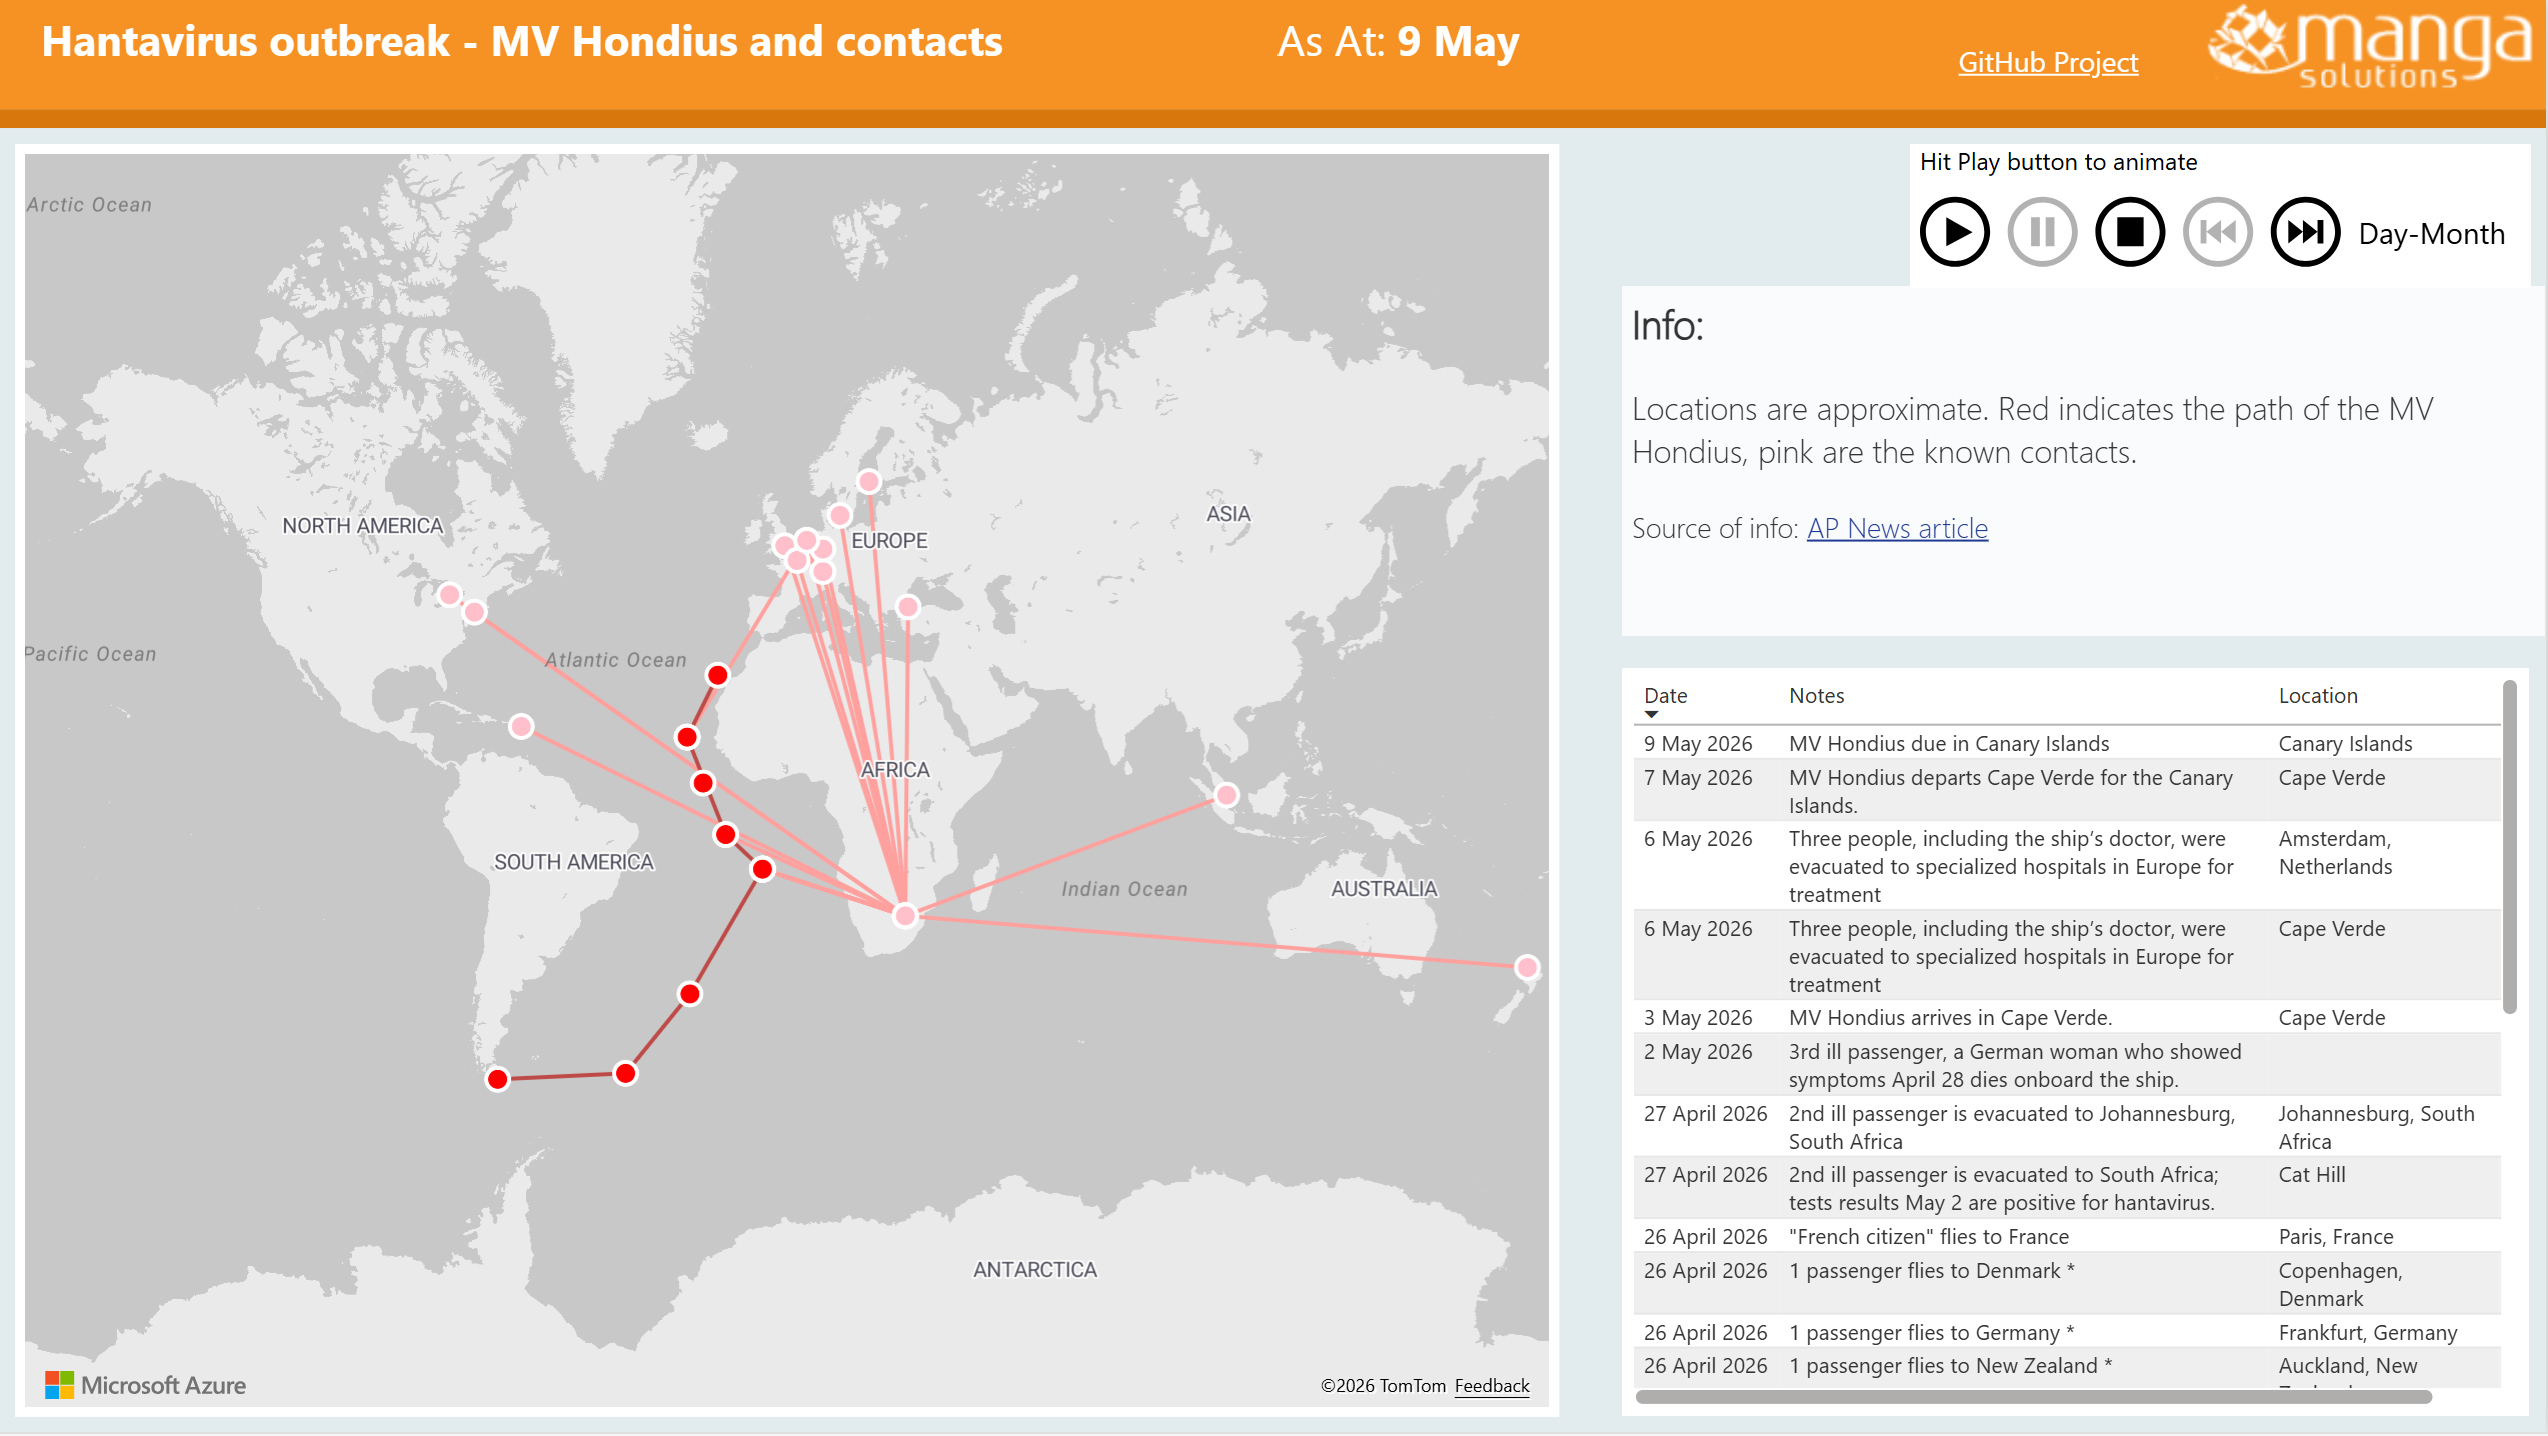

The dashboard page shown, as its layout file describes it:
{"tool":"powerbi","page":{"name":"Timeline Map - Animated","canvas":[1280,720],"ordinal":0},"visuals":[{"type":"textbox","box":[16,0,544,48],"z":0},{"type":"azureMap","fields":{"PathID":["Timeline.Paths"],"PointOrder":["Timeline.Index"],"X":["Timeline.Longitude"],"Y":["Timeline.Latitude"]},"box":[8,72,776,640],"z":2000},{"type":"PBI_CV_16948668_E17D_454B_8664_2F2C470EA8C1","title":"Hit Play button to animate","fields":{"category":["Dates.Day-Month"]},"box":[960,72,312,72],"z":4000},{"type":"cardVisual","fields":{"Data":["Timeline.@ Latest Date"]},"box":[560,0,224,64],"z":5000},{"type":"textbox","box":[816,144,464,176],"z":5001},{"type":"textbox","box":[960,16,120,32],"z":5003},{"type":"tableEx","fields":{"Values":["Timeline.Date","Timeline.Notes","Timeline.Location","Timeline.Index"]},"box":[816,336,456,376],"z":5004}]}

Visuals, with their boxes in screenshot pixels (x1, y1, x2, y2), scaled from the page's 1280x720 canvas onto the 2548x1436 screenshot:
textbox: {"x1": 32, "y1": 0, "x2": 1115, "y2": 96}
azureMap - Timeline.Paths x Timeline.Index: {"x1": 16, "y1": 144, "x2": 1561, "y2": 1420}
"Hit Play button to animate" PBI_CV_16948668_E17D_454B_8664_2F2C470EA8C1: {"x1": 1911, "y1": 144, "x2": 2532, "y2": 287}
cardVisual - Timeline.@ Latest Date: {"x1": 1115, "y1": 0, "x2": 1561, "y2": 128}
textbox: {"x1": 1624, "y1": 287, "x2": 2547, "y2": 638}
textbox: {"x1": 1911, "y1": 32, "x2": 2150, "y2": 96}
tableEx - Timeline.Date x Timeline.Notes: {"x1": 1624, "y1": 670, "x2": 2532, "y2": 1420}
